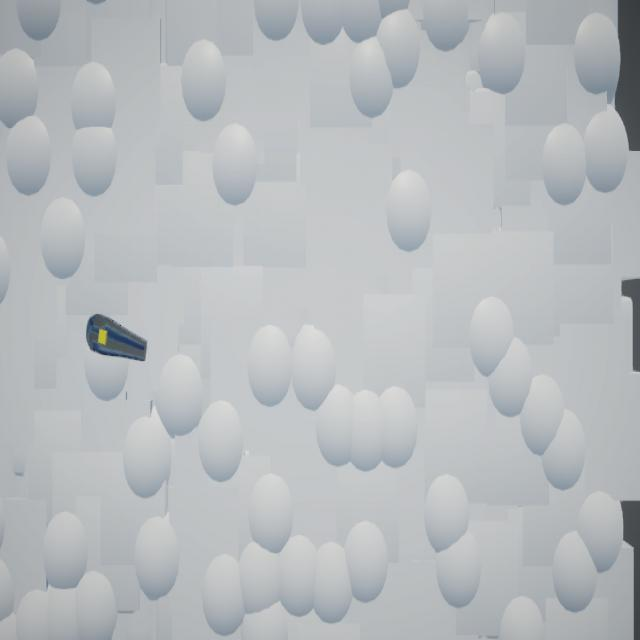handle_knife: (87, 314, 148, 362)
